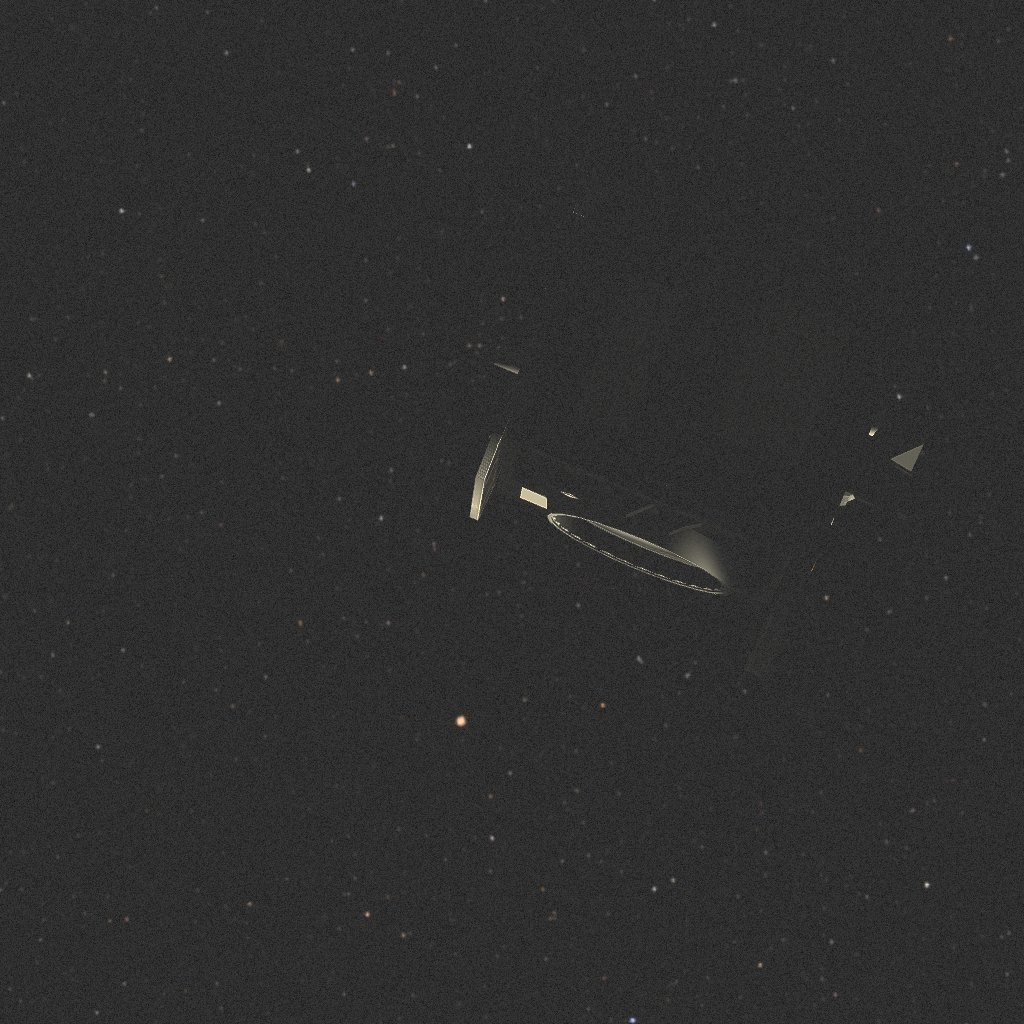proba_3_ocs: (470, 140, 934, 678)
